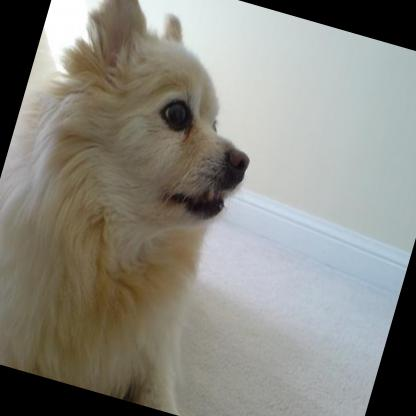Pomeranian: (0, 0, 288, 411)
